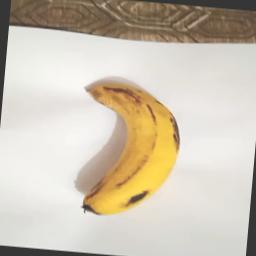Banana Unripe: (72, 76, 184, 223)
